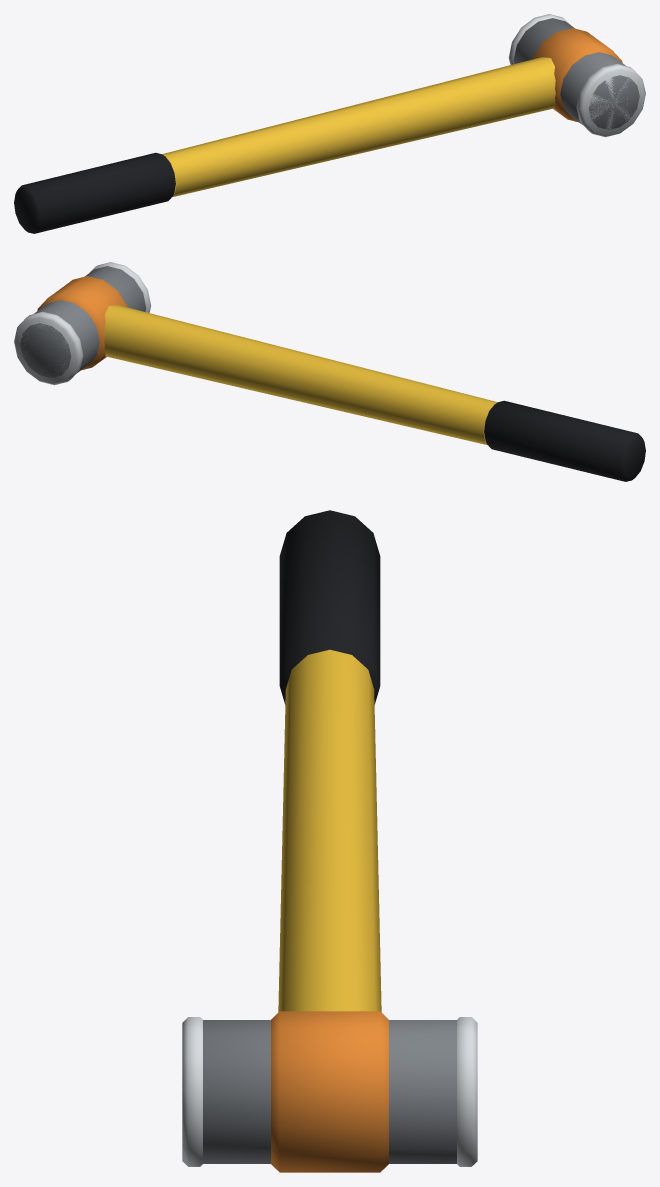
The model's file is SM_Sledge_01.glb.
3 views of the same model, one above another, from view 1: azimuth 30°, elevation 25°; view 2: azimuth 150°, elevation 25°; view 3: azimuth 270°, elevation 25° (orthographic). The views are drawn at different scales.
Parts seen in each view (by area): view 1: SM_Sledge_01; view 2: SM_Sledge_01; view 3: SM_Sledge_01.
Boxes of the visible parts, x1=… form: SM_Sledge_01: x1=14, y1=14, x2=645, y2=233; SM_Sledge_01: x1=14, y1=262, x2=645, y2=481; SM_Sledge_01: x1=182, y1=510, x2=477, y2=1172.
Bounding box in the file's own units: 0.921 × 0.1092 × 0.2.
1 material, 1 textured.
